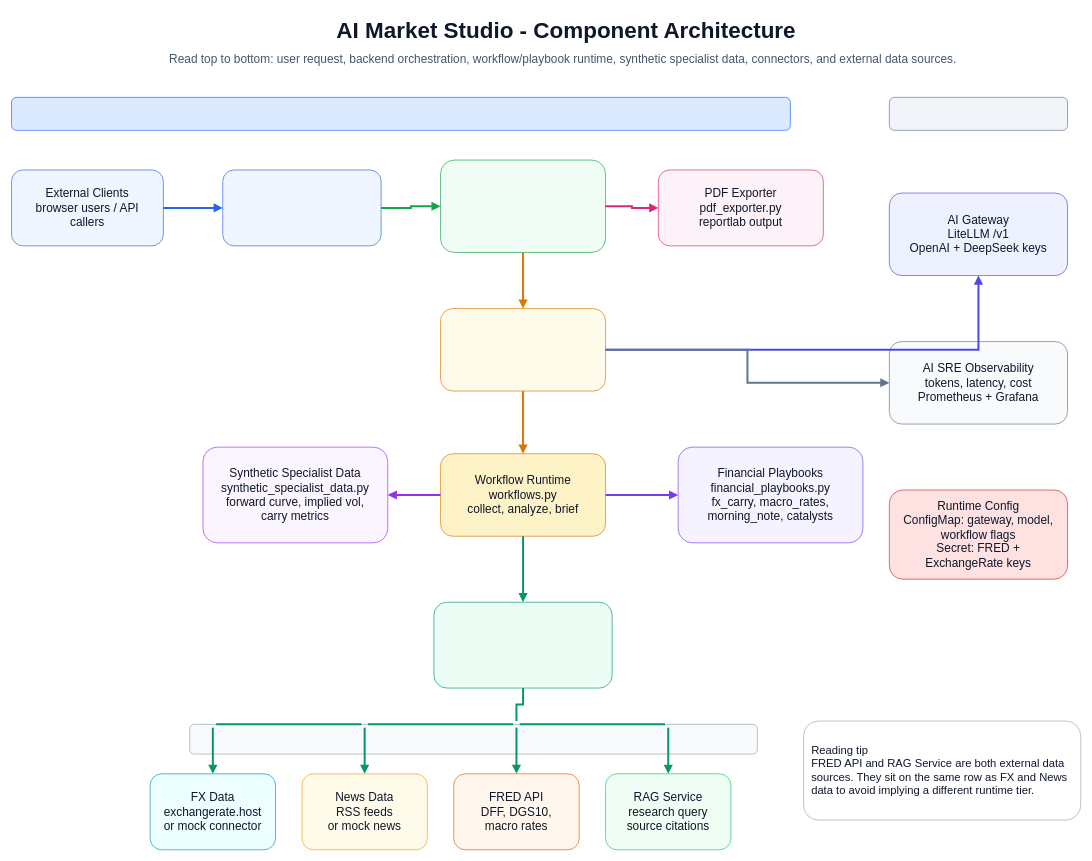
This 1092x861 diagram has some shape labels left out. The shapes that lost their labels are listed below. From the top down, each one's box as (x1, y1, x2, y2) in pixels, then its label:
(11, 97, 790, 130): Main Product Flow
(889, 97, 1068, 130): Platform Services
(222, 169, 381, 246): Frontend UI chat, dashboards, PDF export action
(440, 159, 606, 252): Backend API FastAPI /api/chat, rates, dashboard, export/pdf
(440, 308, 606, 391): Agent Layer agent.py + tools.py legacy tools and workflow tools
(433, 602, 612, 688): Connector Layer FX, News, FRED, RAG, Correlation connectors
(189, 724, 757, 754): External Data Sources - same layer
